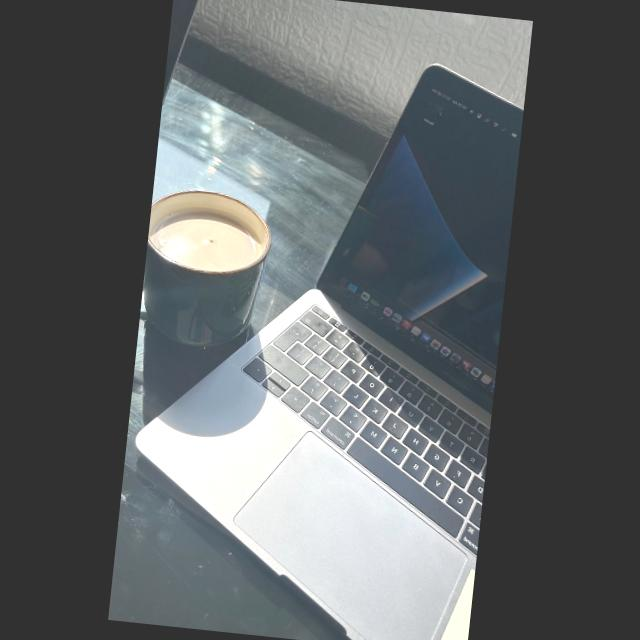laptop: (136, 63, 523, 640)
